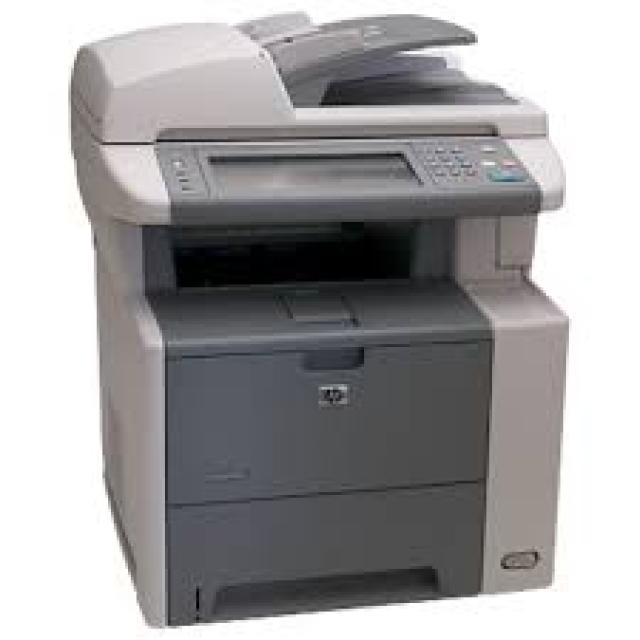printer: (65, 6, 569, 628)
